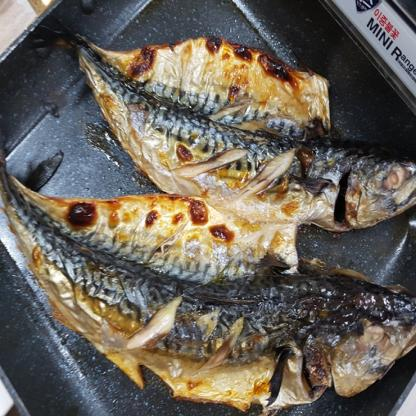Peixe: (0, 28, 416, 410)
